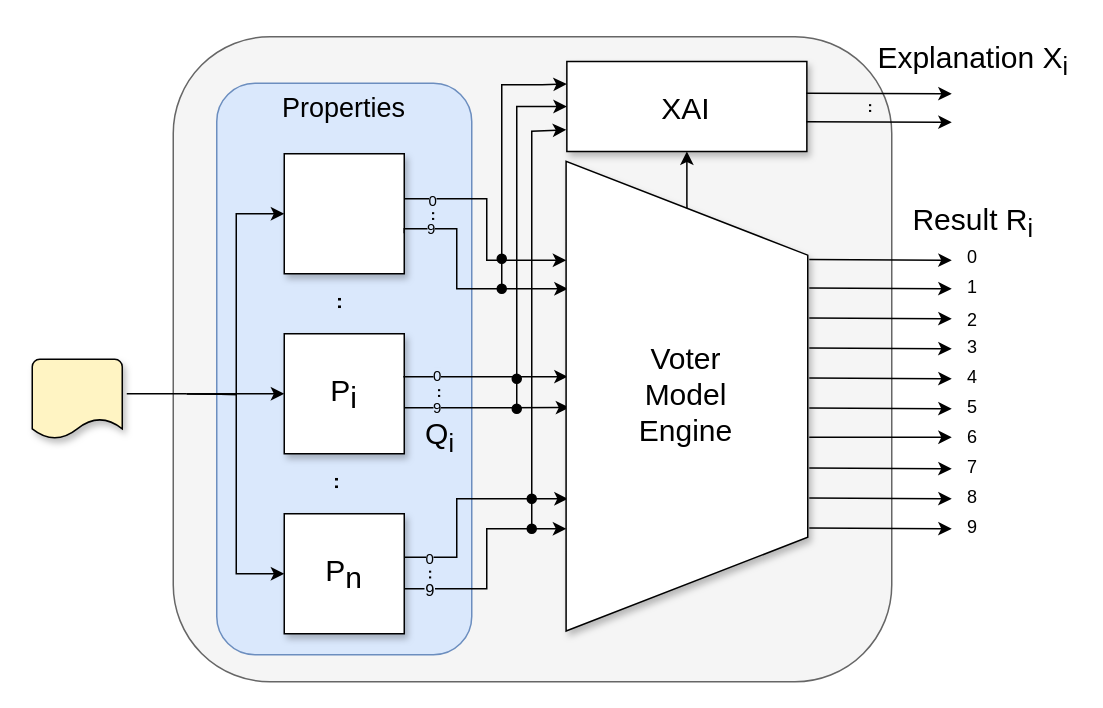
The diagram is 1103 pixels wide and 708 high, and some of its shapes have lost their labels. The centre of each missing label's shape, as x and y in pixels:
"I i" goes at point 78,400.
"P 1" goes at point 345,215.
